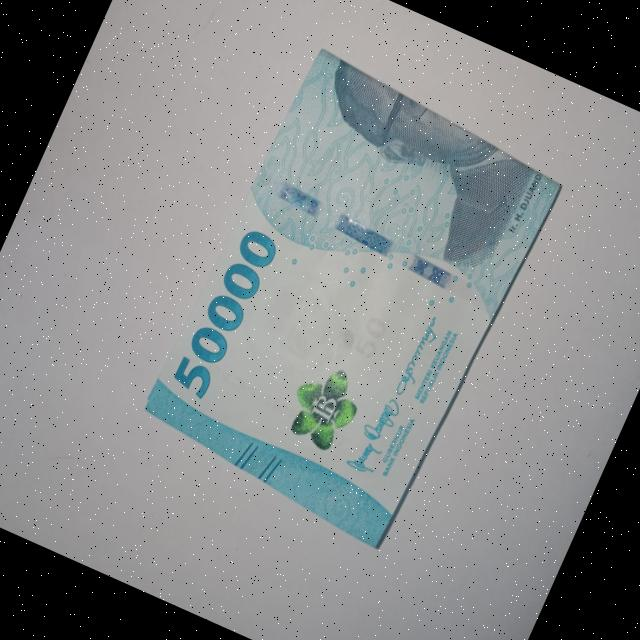50K: (114, 25, 583, 565)
